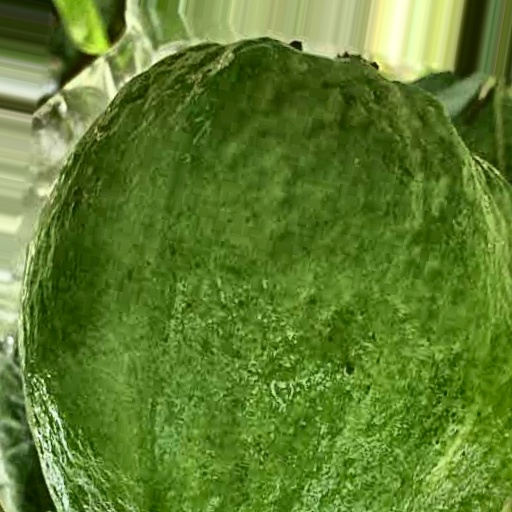guava: (93, 61, 512, 512)
